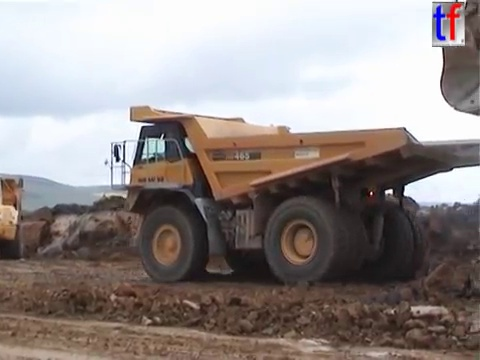excavator: (437, 1, 480, 118)
truck: (103, 102, 480, 288), (1, 175, 27, 263)
